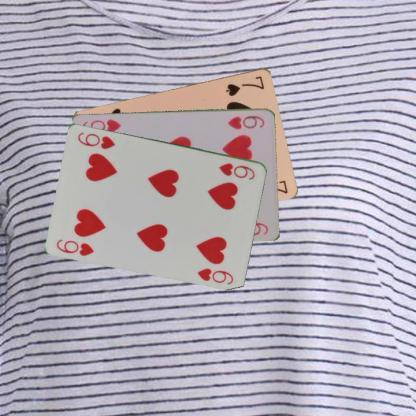6h: (216, 160, 257, 181), (54, 236, 95, 257), (225, 113, 266, 130)
7s: (223, 72, 266, 98)
